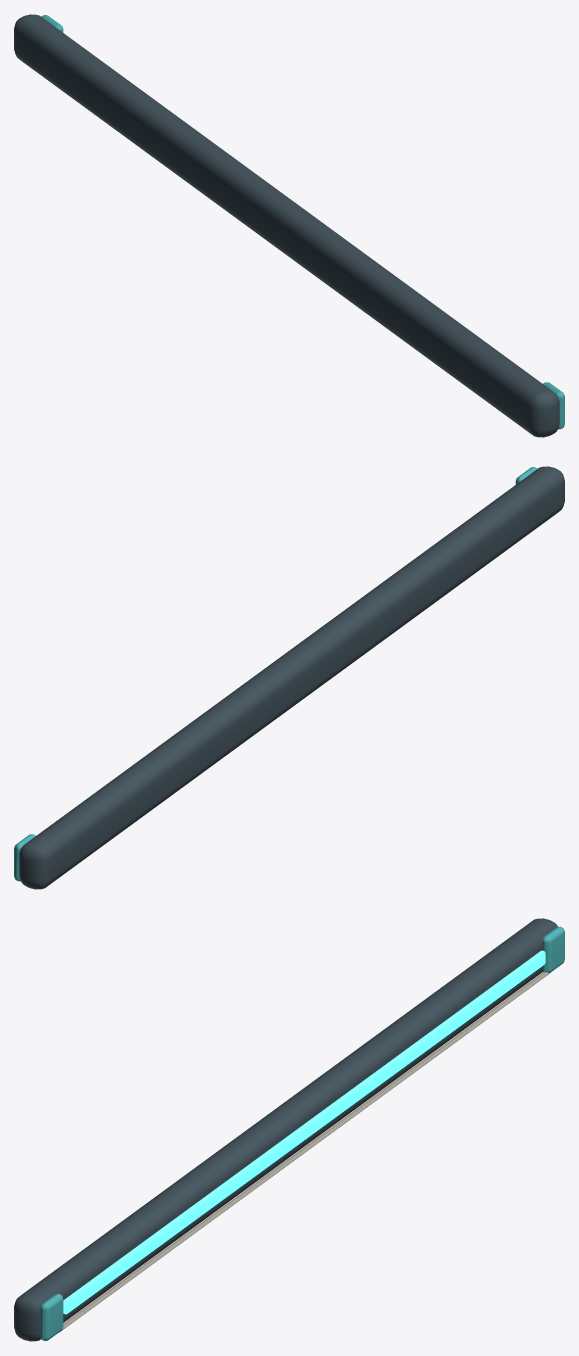
Rendered from SM_ResearchScanBar.fbx.
The picture shows the model from 3 angles, top to bottom: view 1: azimuth 30°, elevation 25°; view 2: azimuth 150°, elevation 25°; view 3: azimuth 330°, elevation 25°; orthographic projection.
Visible parts, largest first — view 1: SM_ResearchScanBar; view 2: SM_ResearchScanBar; view 3: SM_ResearchScanBar.
Boxes of the visible parts, <box> form: SM_ResearchScanBar: <box>14,14,564,437</box>; SM_ResearchScanBar: <box>14,466,564,889</box>; SM_ResearchScanBar: <box>14,918,564,1341</box>.
Bounding box in the file's own units: 2.15 × 55.8 × 2.6.
